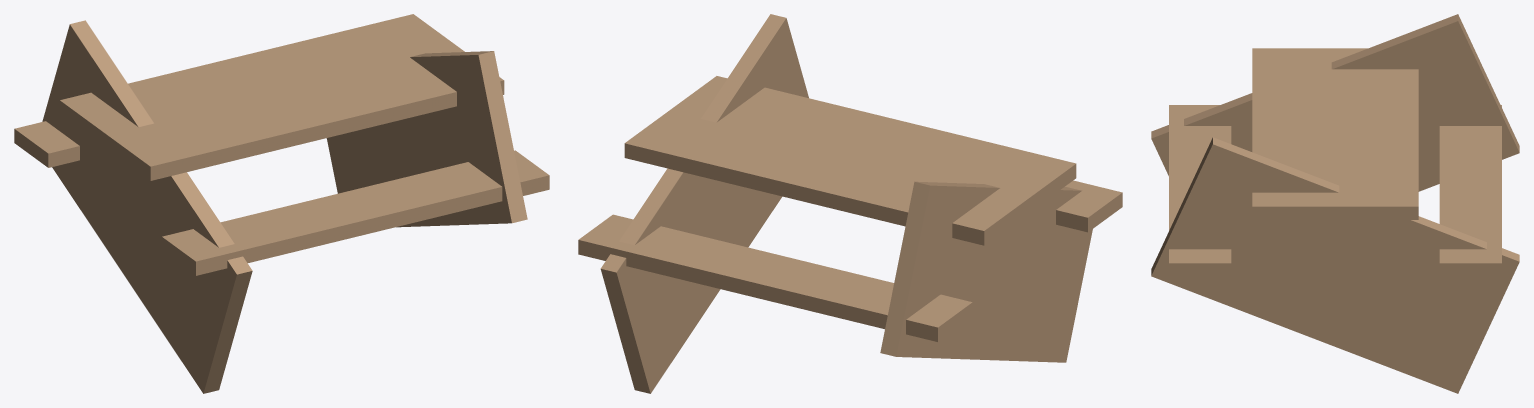
The model's file is pr-picnic-table.glb.
3 views of the same model, side by side, from view 1: azimuth 30°, elevation 25°; view 2: azimuth 150°, elevation 25°; view 3: azimuth 270°, elevation 25° (orthographic). The views are drawn at different scales.
Visible parts, largest first — view 1: top; view 2: top; view 3: top.
Boxes of the visible parts, <box> form: top: <box>14,14,549,393</box>; top: <box>578,14,1122,393</box>; top: <box>1151,14,1519,393</box>.
Bounding box in the file's own units: 1.8 × 1.32 × 1.77.
